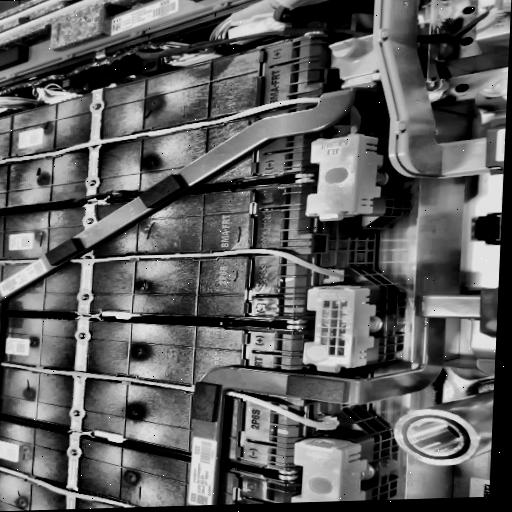busbar: (0, 80, 375, 385), (182, 290, 483, 506), (371, 0, 488, 179)
high_volt_cable: (0, 90, 372, 166), (0, 358, 341, 431), (0, 244, 351, 280), (0, 465, 150, 508)
low_volt_cable: (0, 21, 357, 96), (0, 167, 304, 215)
nut: (86, 175, 100, 188), (74, 330, 90, 340), (77, 290, 91, 301), (87, 101, 103, 110), (80, 215, 95, 224), (67, 448, 79, 456), (69, 408, 81, 416)
